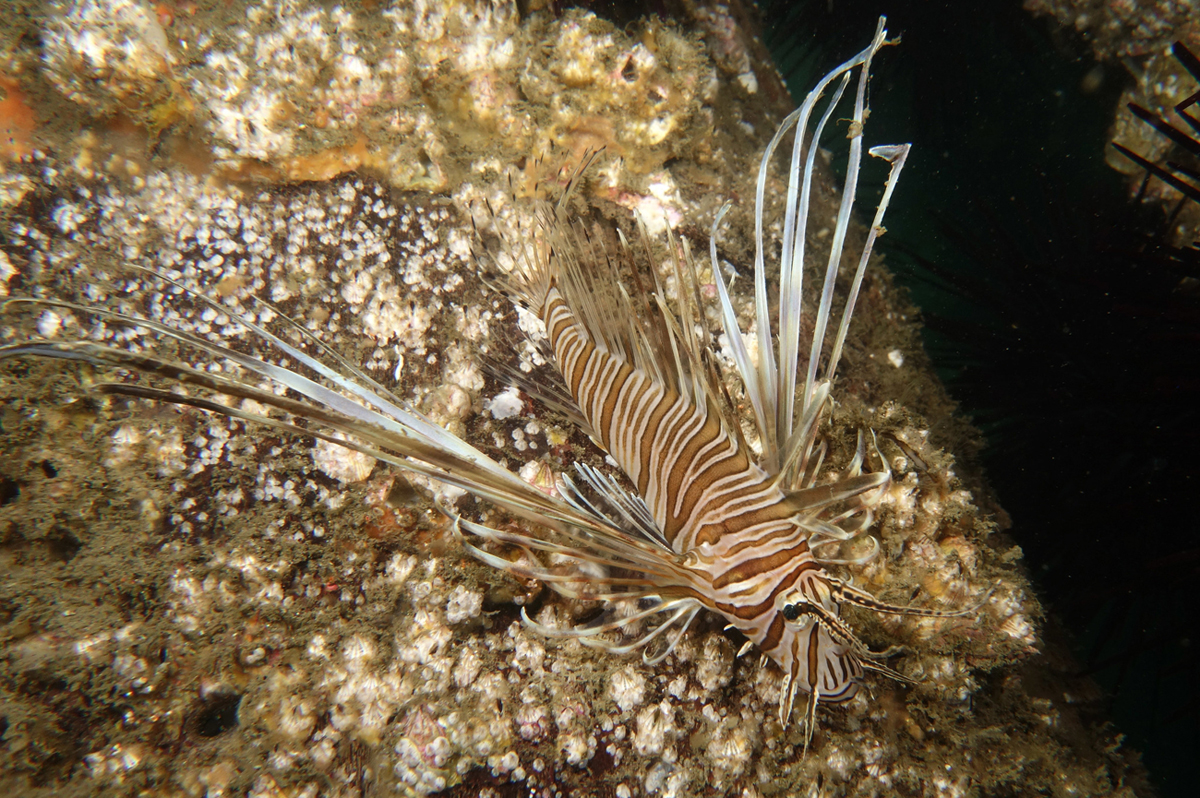Pterois_volitans: (311, 157, 1029, 749)
